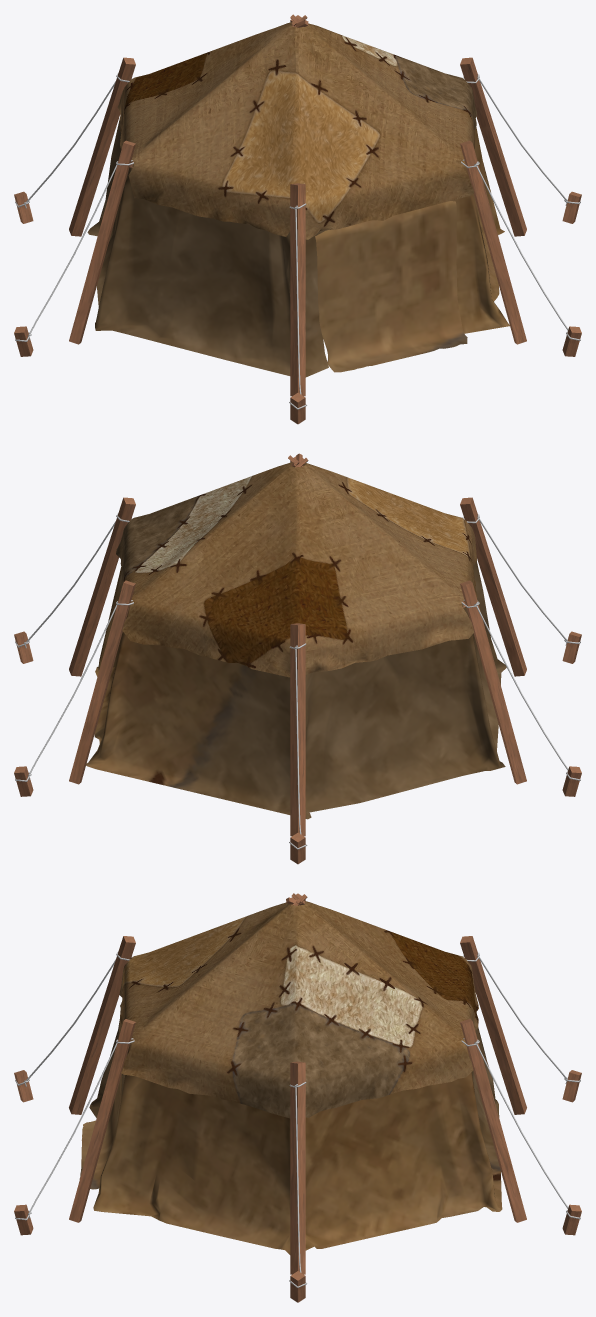
The model's file is EvilYurt.fbx.
The picture shows the model from 3 angles, top to bottom: view 1: azimuth 30°, elevation 25°; view 2: azimuth 150°, elevation 25°; view 3: azimuth 270°, elevation 25°; orthographic projection.
Visible parts, largest first — view 1: YurtRoof, YurtSides, YurtDoor, YurtSupports, YurtRope; view 2: YurtRoof, YurtSides, YurtSupports, YurtRope; view 3: YurtRoof, YurtSides, YurtSupports, YurtRope, YurtDoor.
Boxes of the visible parts, x1,y1,x2,y2 form: YurtRoof: (117, 22, 477, 239); YurtSides: (87, 117, 509, 377); YurtDoor: (315, 201, 467, 372); YurtSupports: (14, 14, 581, 424); YurtRope: (15, 73, 580, 409); YurtRoof: (116, 462, 477, 677); YurtSides: (86, 561, 506, 819); YurtSupports: (14, 453, 581, 864); YurtRope: (15, 513, 580, 849); YurtRoof: (119, 900, 478, 1118); YurtSides: (89, 1021, 502, 1254); YurtSupports: (14, 893, 581, 1302); YurtRope: (15, 952, 580, 1287); YurtDoor: (79, 1002, 122, 1189).
Size of the model in its own units: 10.61 by 4.88 by 9.19.
